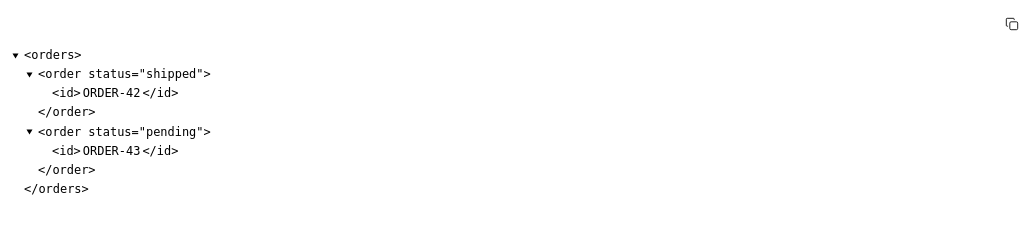
Test case: find in an XML document (Ctrl+F) › says so plainly when nothing matches
Press f
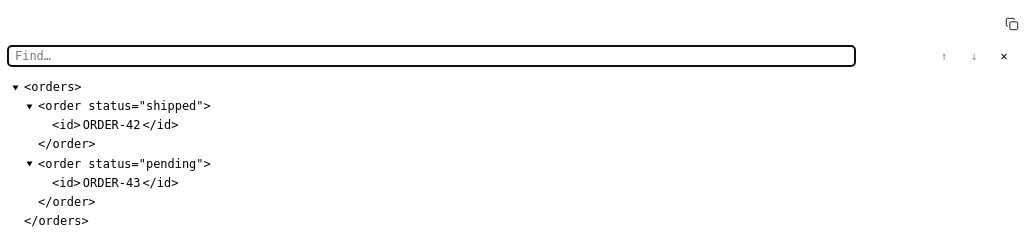
Type "absent" into the field named "Find in document".
click(432, 56); type("absent")  # box [8,46,855,66]
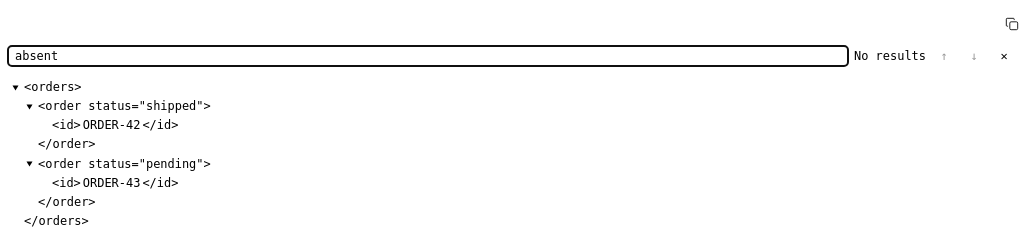
Check: the text "No results" is shown, box [854,49,926,63]
